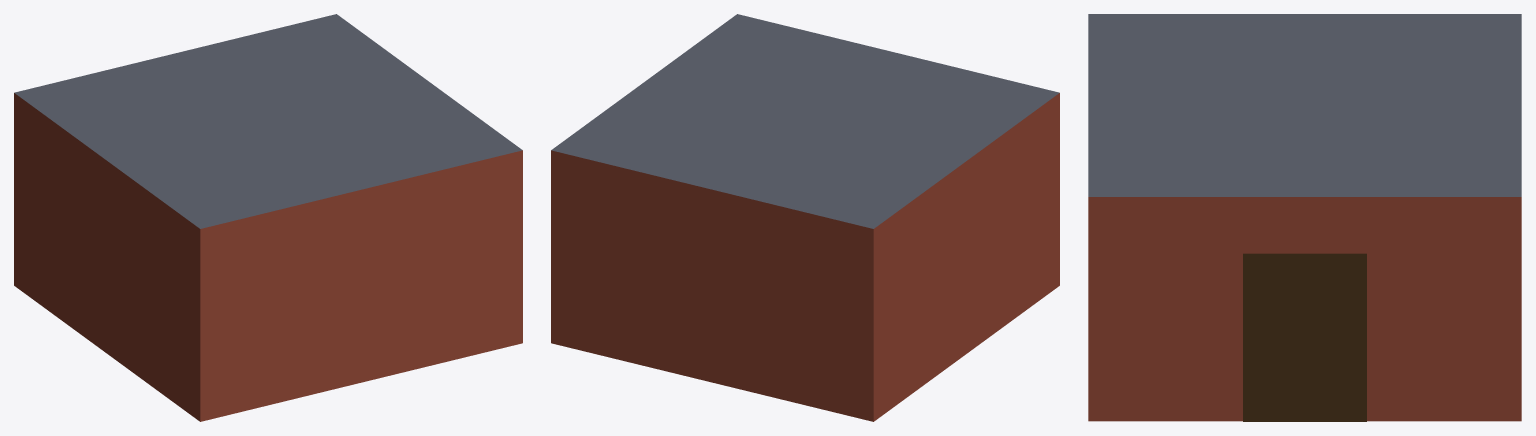
Rendered from toilets.obj.
3 views of the same model, side by side, from view 1: azimuth 30°, elevation 25°; view 2: azimuth 150°, elevation 25°; view 3: azimuth 270°, elevation 25° (orthographic). The views are drawn at different scales.
Size of the model in its own units: 2.81 by 1.6 by 2.8.
